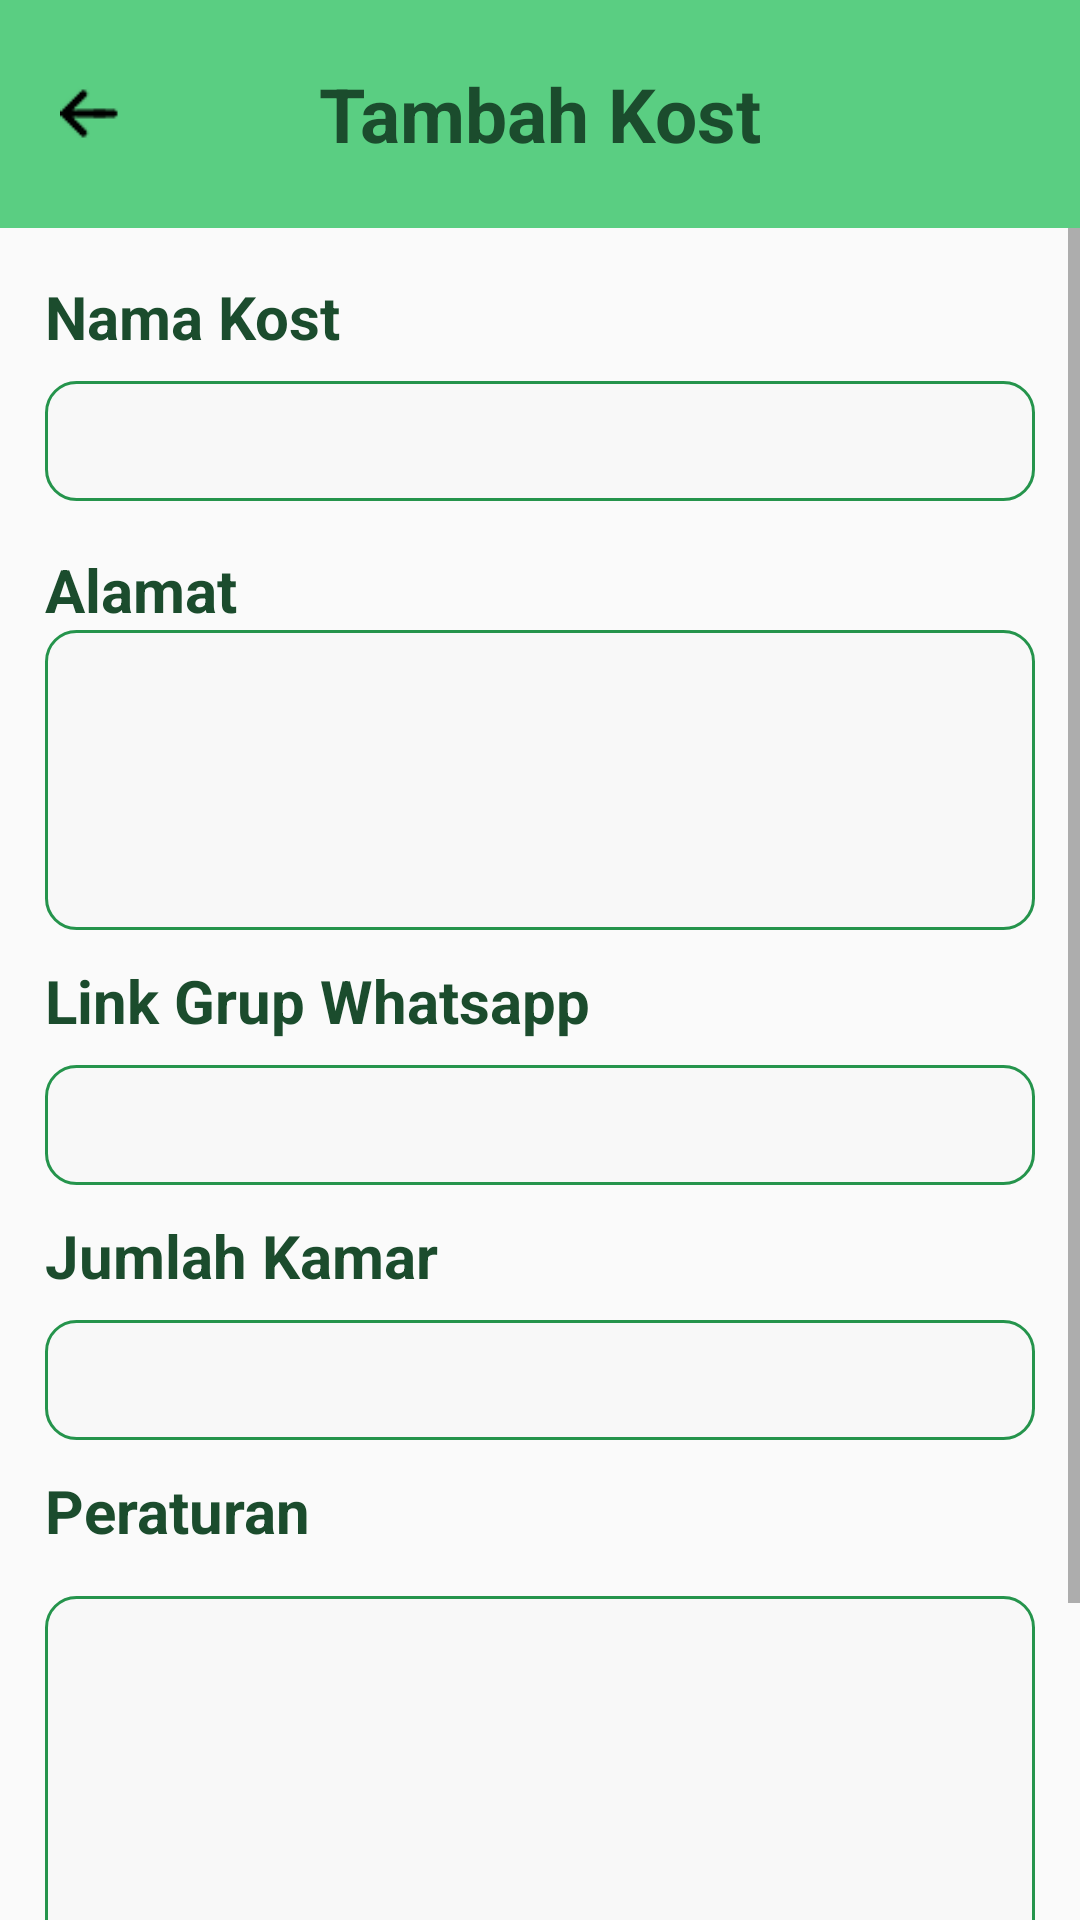

Icon click points for this 1080px×1920px phone screenshot, format [x,y]:
back: [89,113]
